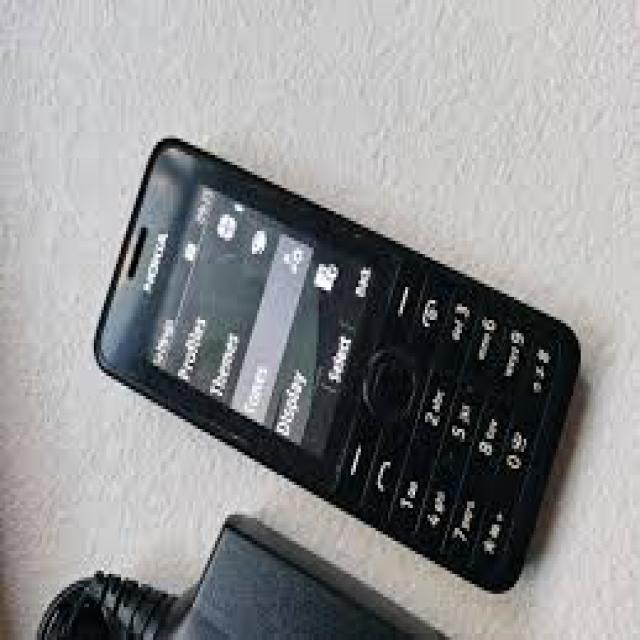mobile phone: (91, 132, 581, 594)
